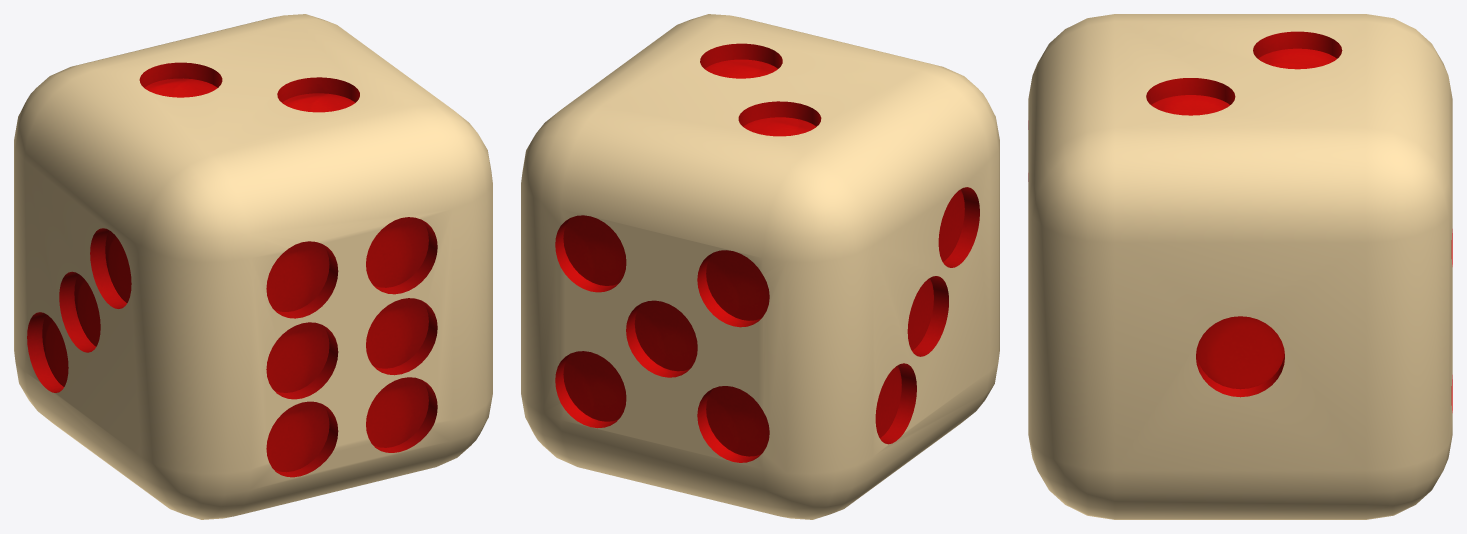
The model's file is dice.glb.
3 renders of one model, left to right at view 1: azimuth 30°, elevation 25°; view 2: azimuth 150°, elevation 25°; view 3: azimuth 270°, elevation 25°, orthographic. The views are drawn at different scales.
Visible parts, largest first — view 1: Cube; view 2: Cube; view 3: Cube.
Boxes of the visible parts, left/top/right/bottom form: Cube: left=14, top=14, right=492, bottom=519; Cube: left=521, top=14, right=999, bottom=519; Cube: left=1028, top=14, right=1452, bottom=519.
Size of the model in its own units: 2 by 2 by 2.
Materials: 2 (1 with a texture image).
